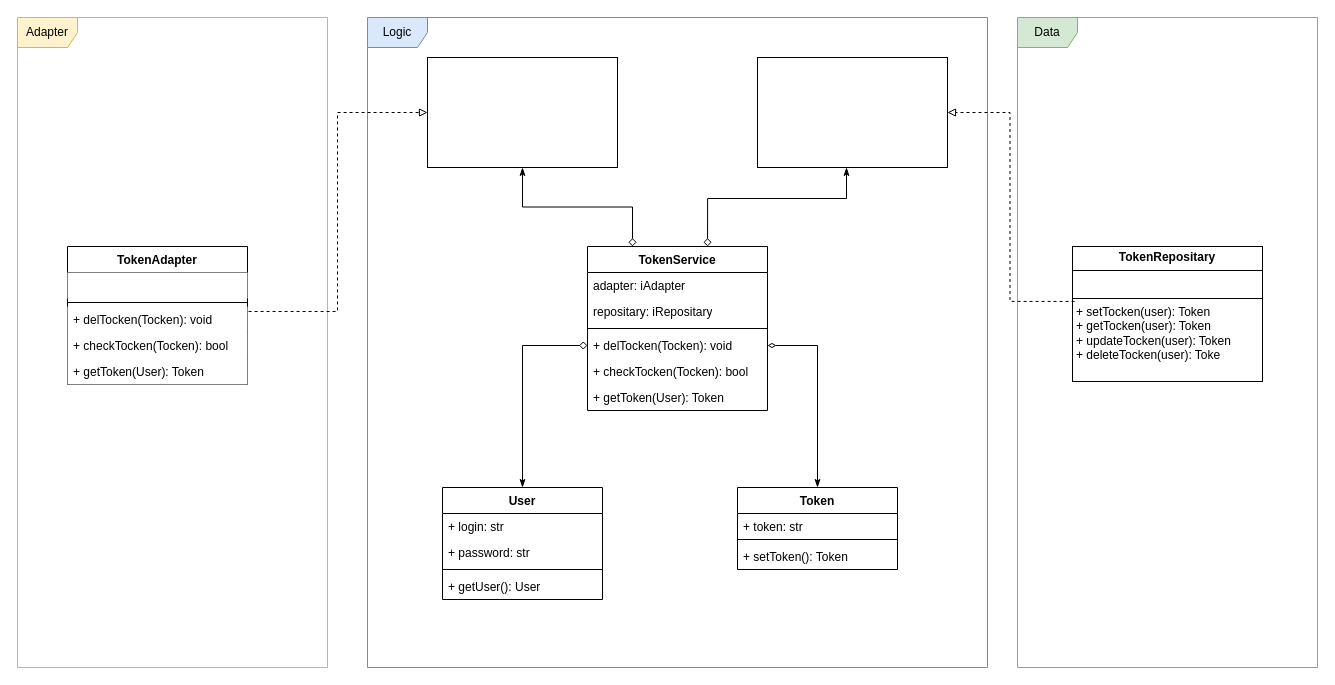
This 1335x685 diagram has some shape labels left out. Here are the shapes that lost their labels. From the top down, the centre of each, then its label:
pixel 522 112: <<Interface>> iAdapter + setTocken(user): Token + g etTocken(user): Token
pixel 852 112: <<Interface>> iRepositary + setTocken(user): Token + g etTocken(user): Token
